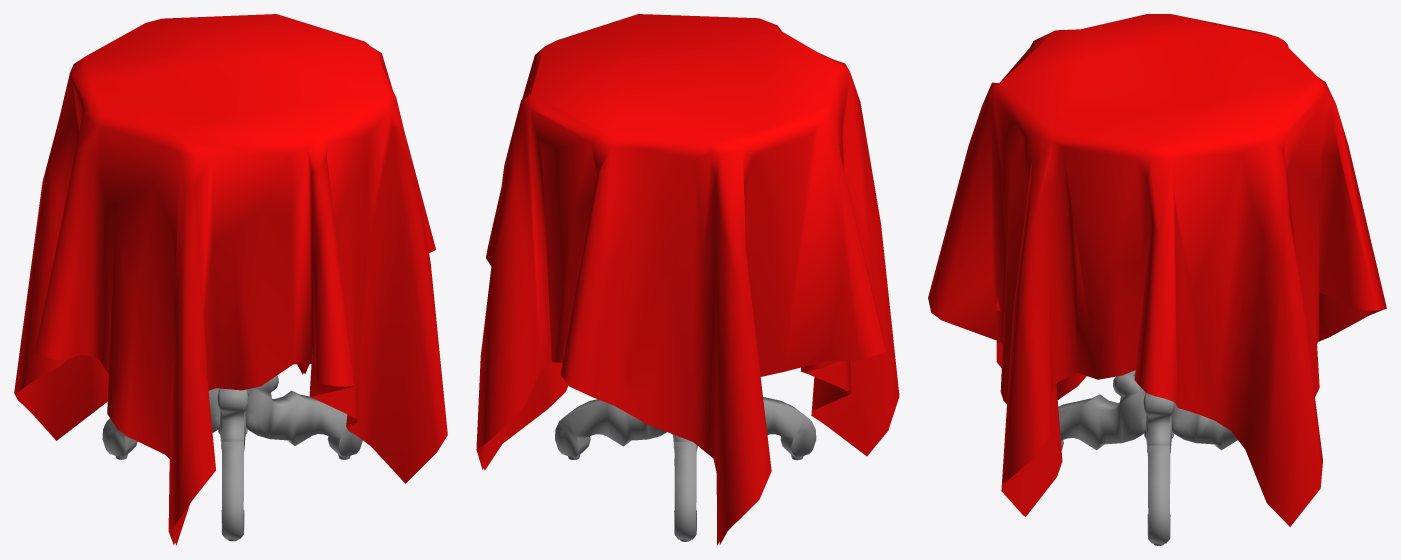
File: SM_SideTableCover.FBX
The picture shows the model from 3 angles, left to right: view 1: azimuth 30°, elevation 25°; view 2: azimuth 150°, elevation 25°; view 3: azimuth 270°, elevation 25°; orthographic projection.
Visible parts, largest first — view 1: SM_SideTableCover_LOD0; view 2: SM_SideTableCover_LOD0; view 3: SM_SideTableCover_LOD0.
Boxes of the visible parts, box(x1,y1,x2,y2) form: SM_SideTableCover_LOD0: box(14, 14, 447, 545); SM_SideTableCover_LOD0: box(476, 14, 899, 545); SM_SideTableCover_LOD0: box(928, 14, 1386, 545).
Size of what is drawn, in the model's own units: 79.18 by 77.31 by 78.72.
